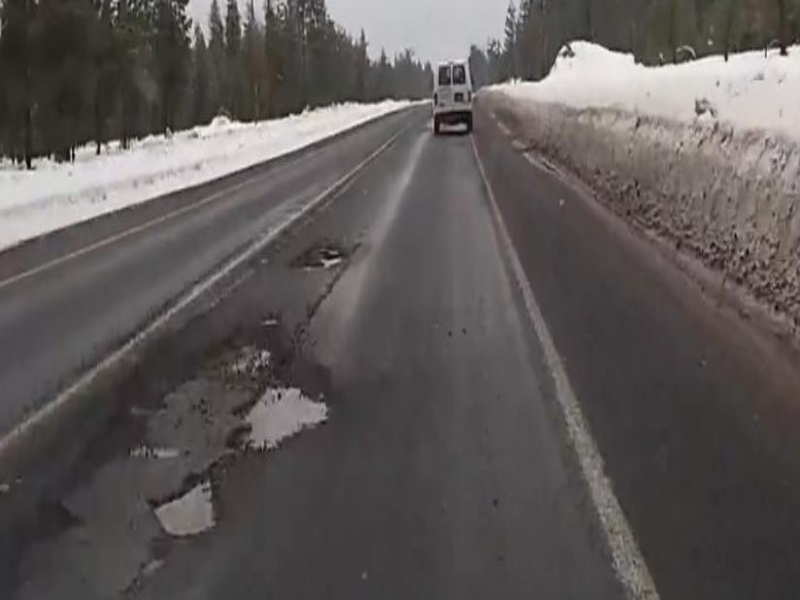pothole: (225, 376, 332, 457), (146, 468, 220, 542), (288, 241, 350, 276)
